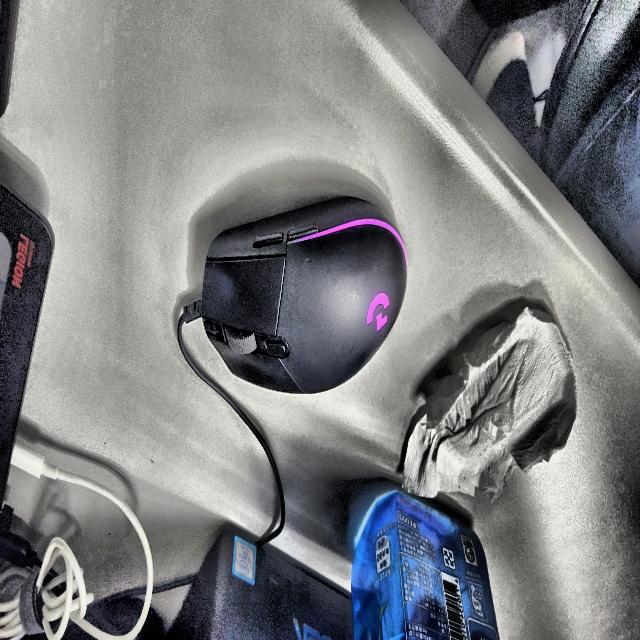MOUSE: (201, 199, 407, 394)
